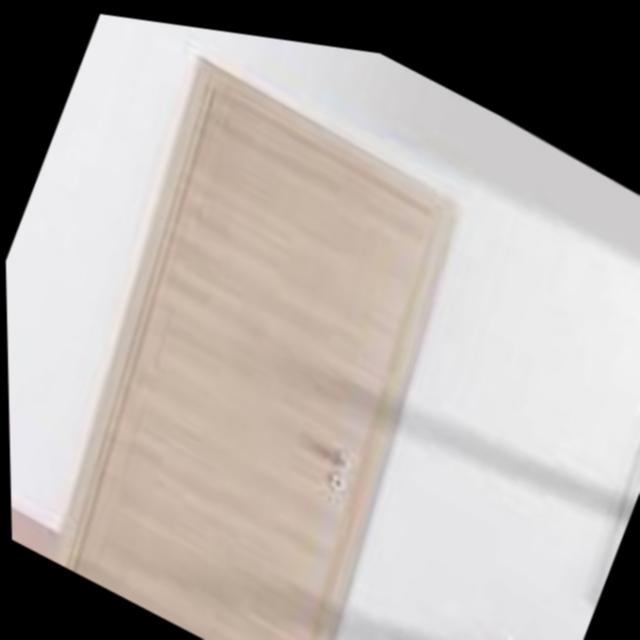door_handle: (300, 407, 361, 471)
